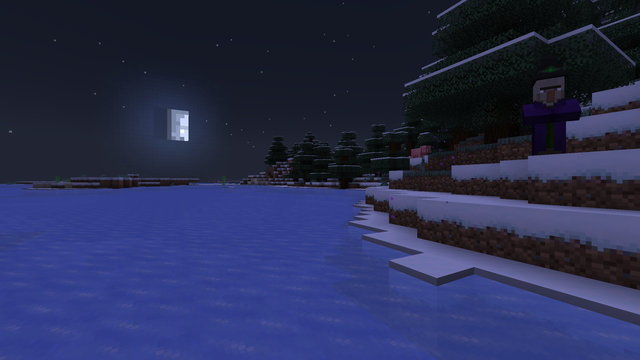cochons: (409, 147, 427, 158)
sorcieres: (526, 71, 570, 163)
